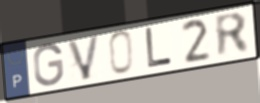0: (106, 28, 137, 77)
2: (179, 18, 213, 65)
G: (32, 42, 65, 88)
L: (144, 26, 174, 70)
R: (212, 11, 252, 60)
V: (66, 32, 103, 82)
